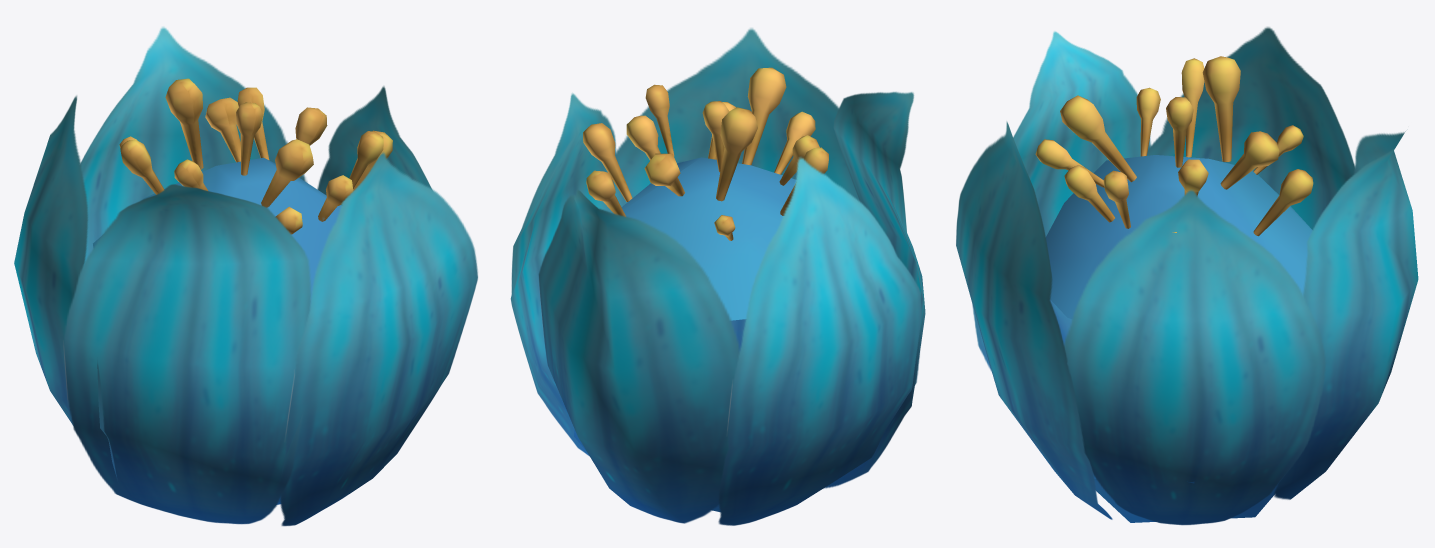
File: PFlower1.glb
3 renders of one model, left to right at view 1: azimuth 30°, elevation 25°; view 2: azimuth 150°, elevation 25°; view 3: azimuth 270°, elevation 25°, orthographic. The views are drawn at different scales.
Parts seen in each view (by area): view 1: PFlower1; view 2: PFlower1; view 3: PFlower1.
Part boxes in pixels (box(x1,y1,x2,y2)): PFlower1: box(14, 26, 477, 526); PFlower1: box(510, 28, 925, 525); PFlower1: box(956, 27, 1418, 525).
Bounding box in the file's own units: 0.7919 × 0.8496 × 0.8237.
1 material, 1 textured.
